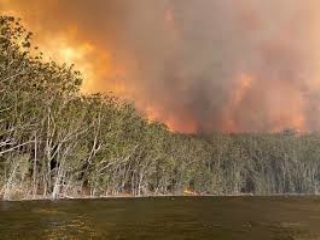smoke: (139, 6, 308, 124)
